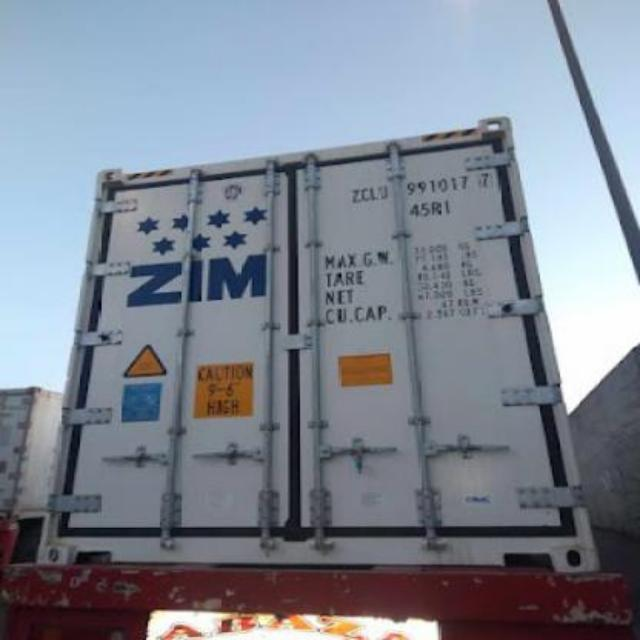0: (436, 176, 449, 194)
1: (428, 178, 440, 200), (450, 175, 460, 193)
7: (458, 175, 474, 191), (478, 172, 492, 190)
9: (404, 182, 418, 194), (416, 182, 428, 194)
C: (360, 186, 372, 202)
L: (368, 186, 380, 202)
U: (378, 184, 390, 200)
Z: (350, 188, 362, 202)
